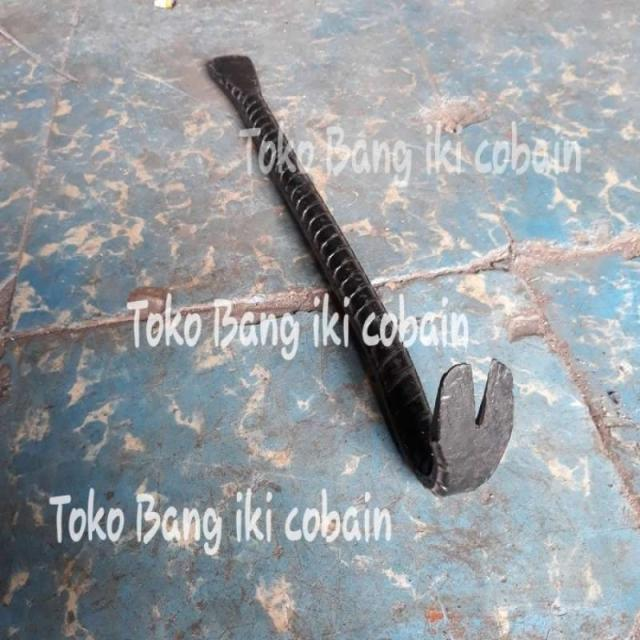Linggis: (206, 56, 517, 494)
